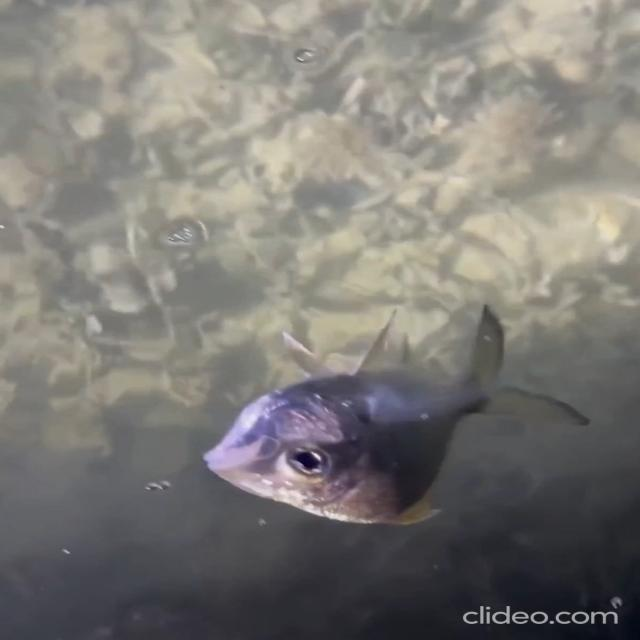fish: (173, 298, 582, 531)
